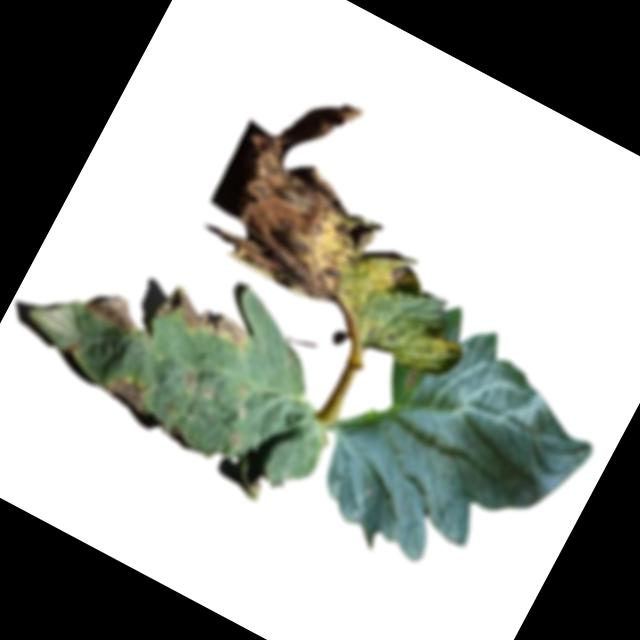Early_blight: (195, 70, 431, 318), (154, 279, 257, 359), (83, 286, 145, 339), (98, 368, 155, 417), (386, 258, 420, 294), (62, 333, 89, 359), (220, 427, 246, 454), (400, 371, 419, 394), (181, 370, 196, 387)
